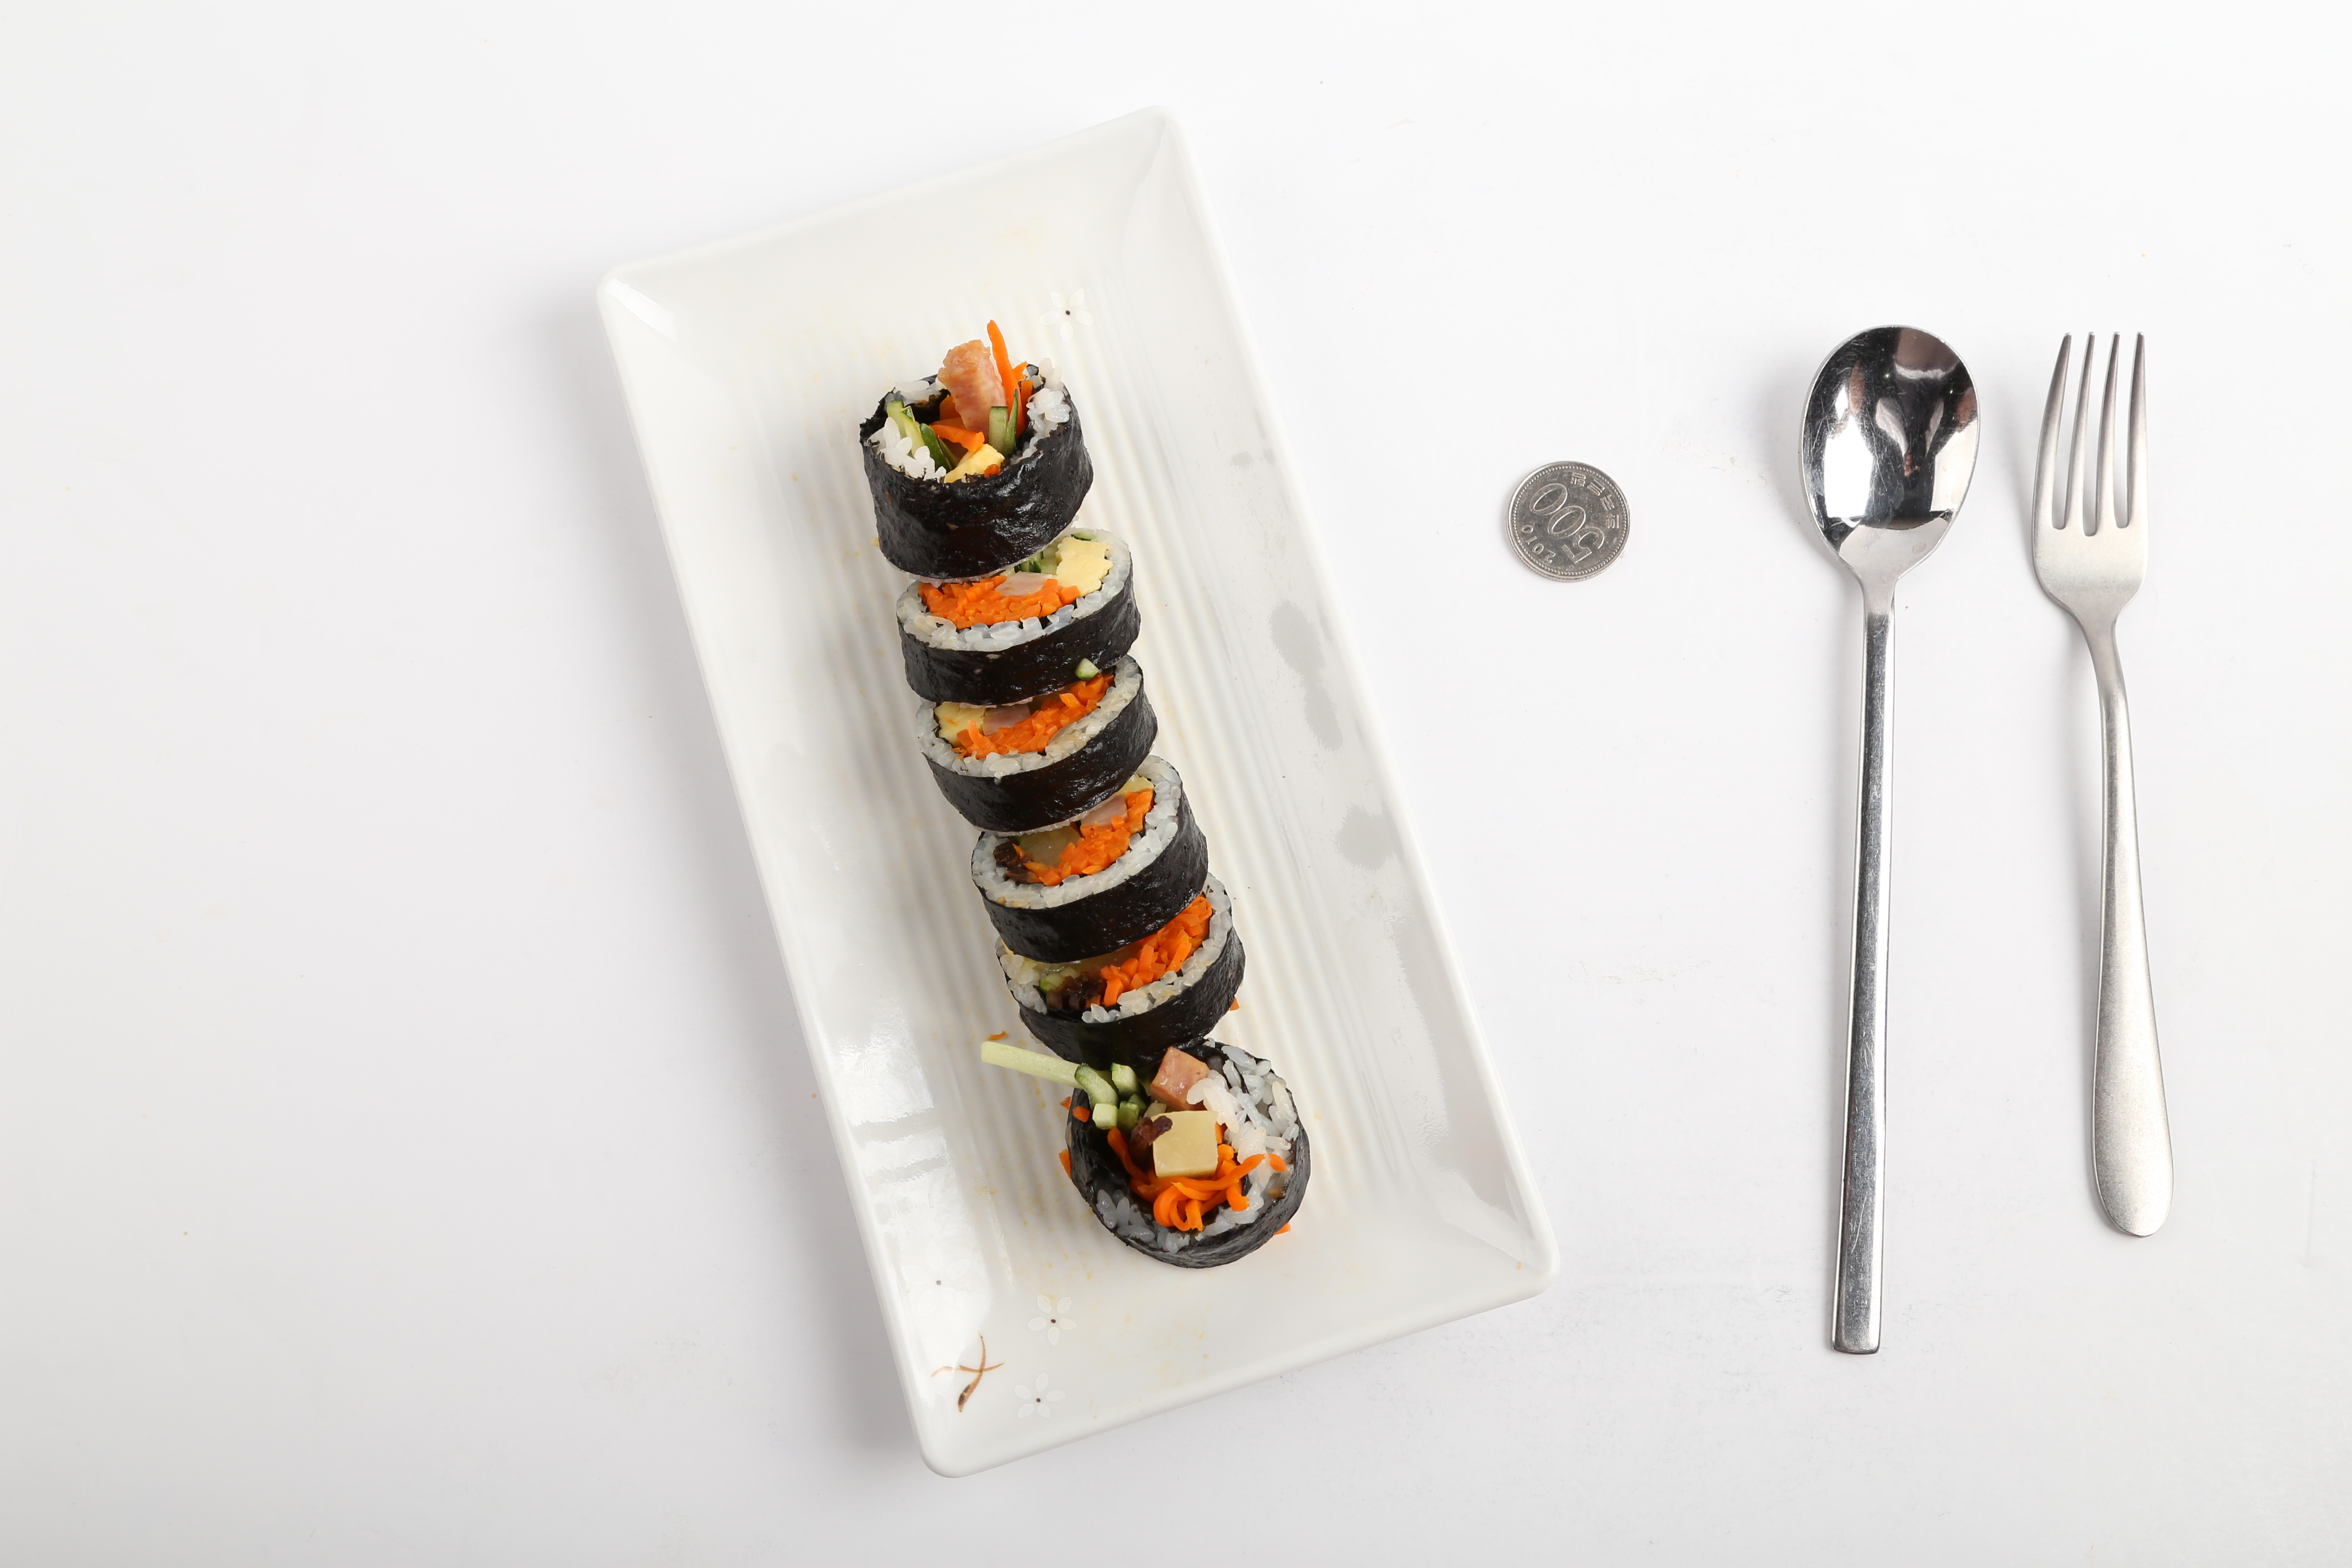dish: (586, 98, 1557, 1477)
ref_coin: (1496, 455, 1634, 591)
ref_fork: (2026, 331, 2151, 677)
ref_spoon: (1795, 324, 1984, 607)
김밥: (854, 360, 1314, 1272)
